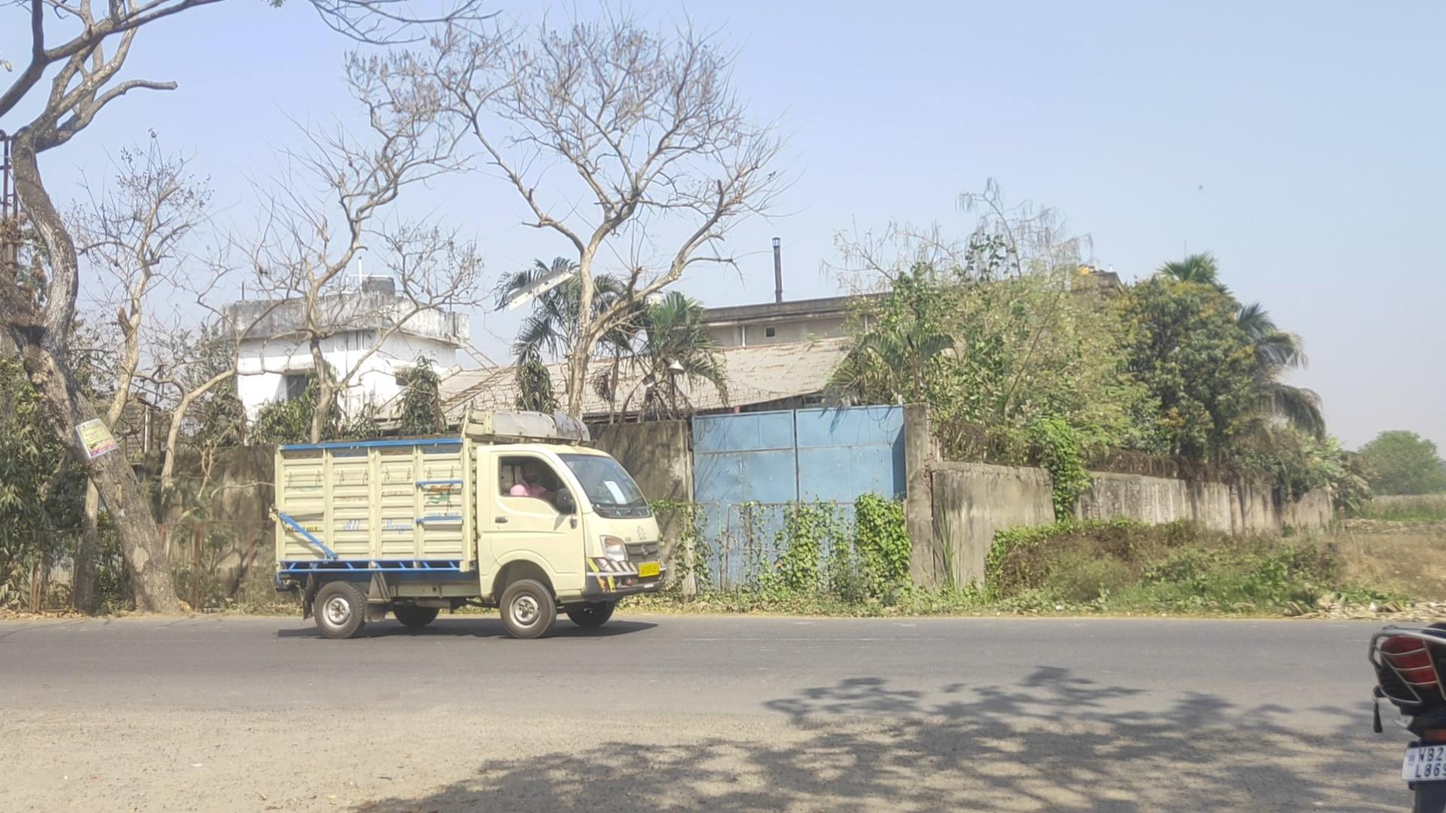van: (268, 406, 664, 640)
